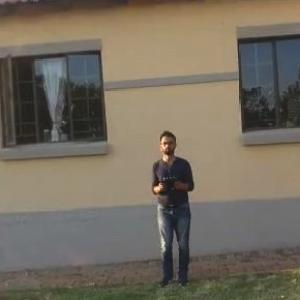follow: (150, 125, 201, 295)
